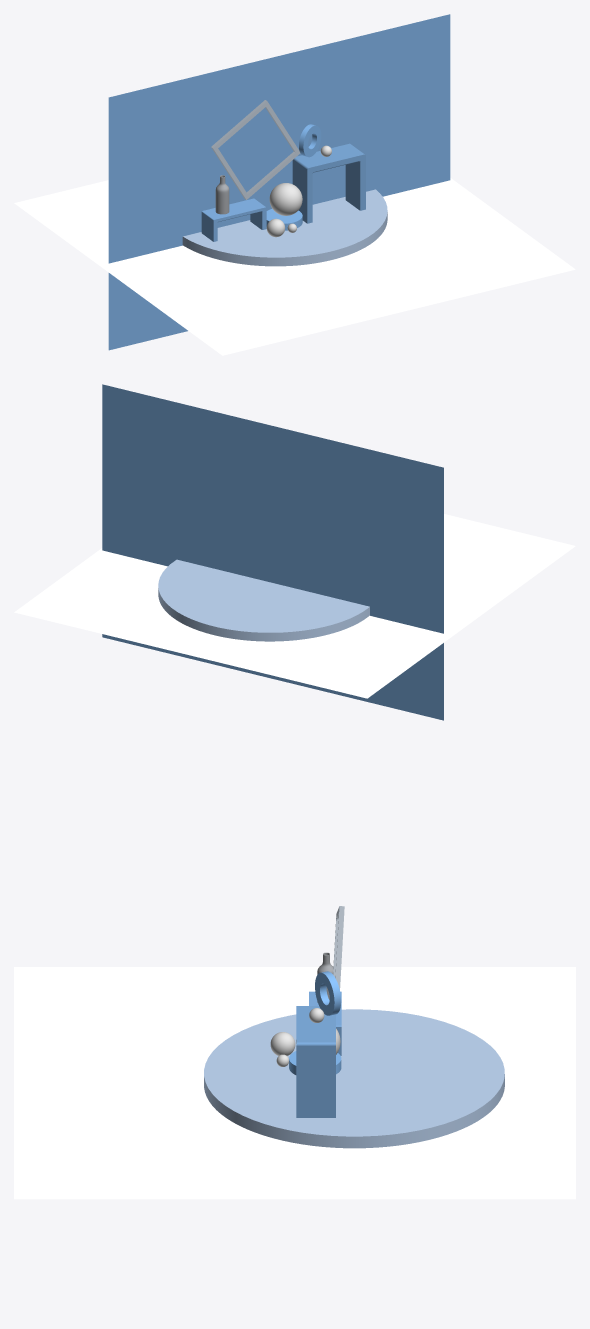
Rendered from SceneFT.gltf.
3 renders of one model, top to bottom at view 1: azimuth 30°, elevation 25°; view 2: azimuth 150°, elevation 25°; view 3: azimuth 270°, elevation 25°, orthographic. The views are drawn at different scales.
Parts seen in each view (by area): view 1: object_14, object_15, object_13, object_9, object_3, object_6, object_1, object_10, object_12; view 2: object_14, object_15, object_13; view 3: object_15, object_13, object_9, object_10.
Part boxes in pixels (<box>): object_14: <box>108,14,450,350</box>; object_15: <box>14,178,575,355</box>; object_13: <box>182,189,387,266</box>; object_9: <box>292,143,365,223</box>; object_3: <box>211,100,300,199</box>; object_6: <box>201,198,266,241</box>; object_1: <box>269,183,302,215</box>; object_10: <box>299,124,321,157</box>; object_12: <box>215,175,229,214</box>; object_14: <box>102,384,443,720</box>; object_15: <box>14,514,575,698</box>; object_13: <box>158,559,369,641</box>; object_15: <box>14,967,575,1199</box>; object_13: <box>204,1009,504,1148</box>; object_9: <box>296,1006,335,1117</box>; object_10: <box>315,971,341,1015</box>.
Size of the model in its own units: 180 by 123 by 184.
